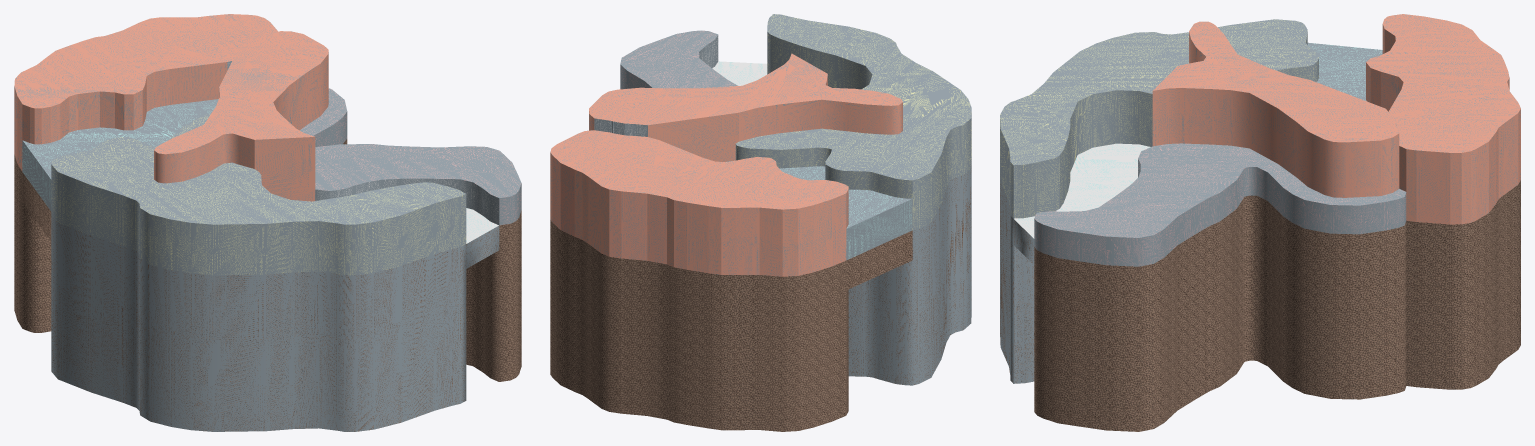
The model's file is build09.fbx.
The picture shows the model from 3 angles, left to right: view 1: azimuth 30°, elevation 25°; view 2: azimuth 150°, elevation 25°; view 3: azimuth 270°, elevation 25°; orthographic projection. The views are drawn at different scales.
Parts seen in each view (by area): view 1: Group1; view 2: Group1; view 3: Group1.
Part boxes in pixels (left/top/right/bottom): Group1: left=14, top=14, right=521, bottom=431; Group1: left=550, top=14, right=971, bottom=431; Group1: left=1000, top=14, right=1520, bottom=431.
Bounding box in the file's own units: 19949 × 11950 × 22624.
